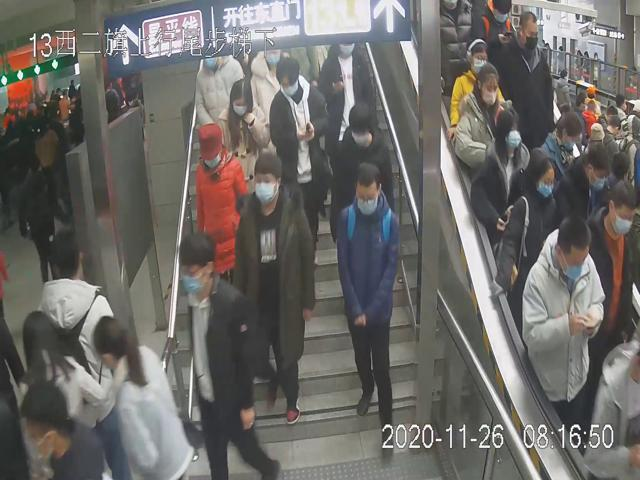person: (177, 234, 279, 480), (232, 152, 316, 424), (332, 161, 400, 467), (520, 214, 605, 420), (268, 58, 328, 242), (490, 156, 558, 300), (330, 103, 395, 248), (194, 121, 251, 278), (469, 105, 534, 236), (216, 77, 272, 197), (457, 63, 512, 174)
